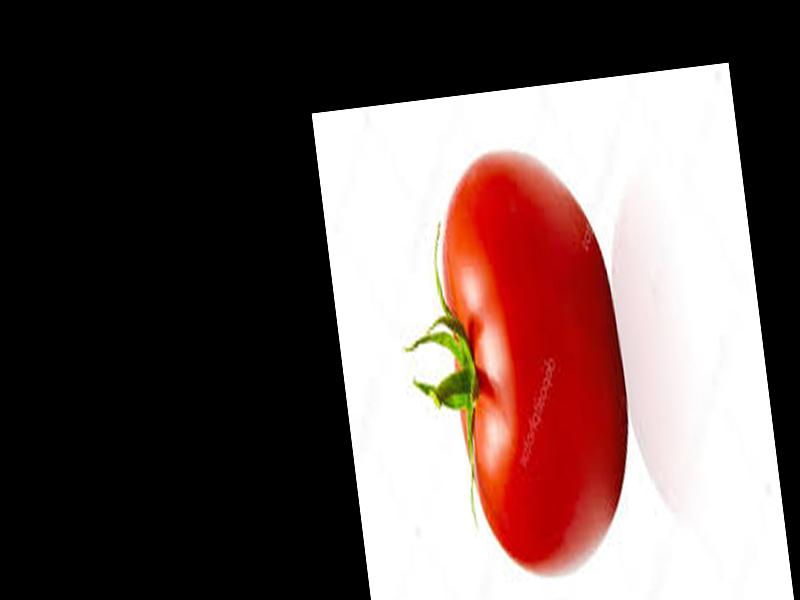Tomato: (429, 137, 646, 586)
